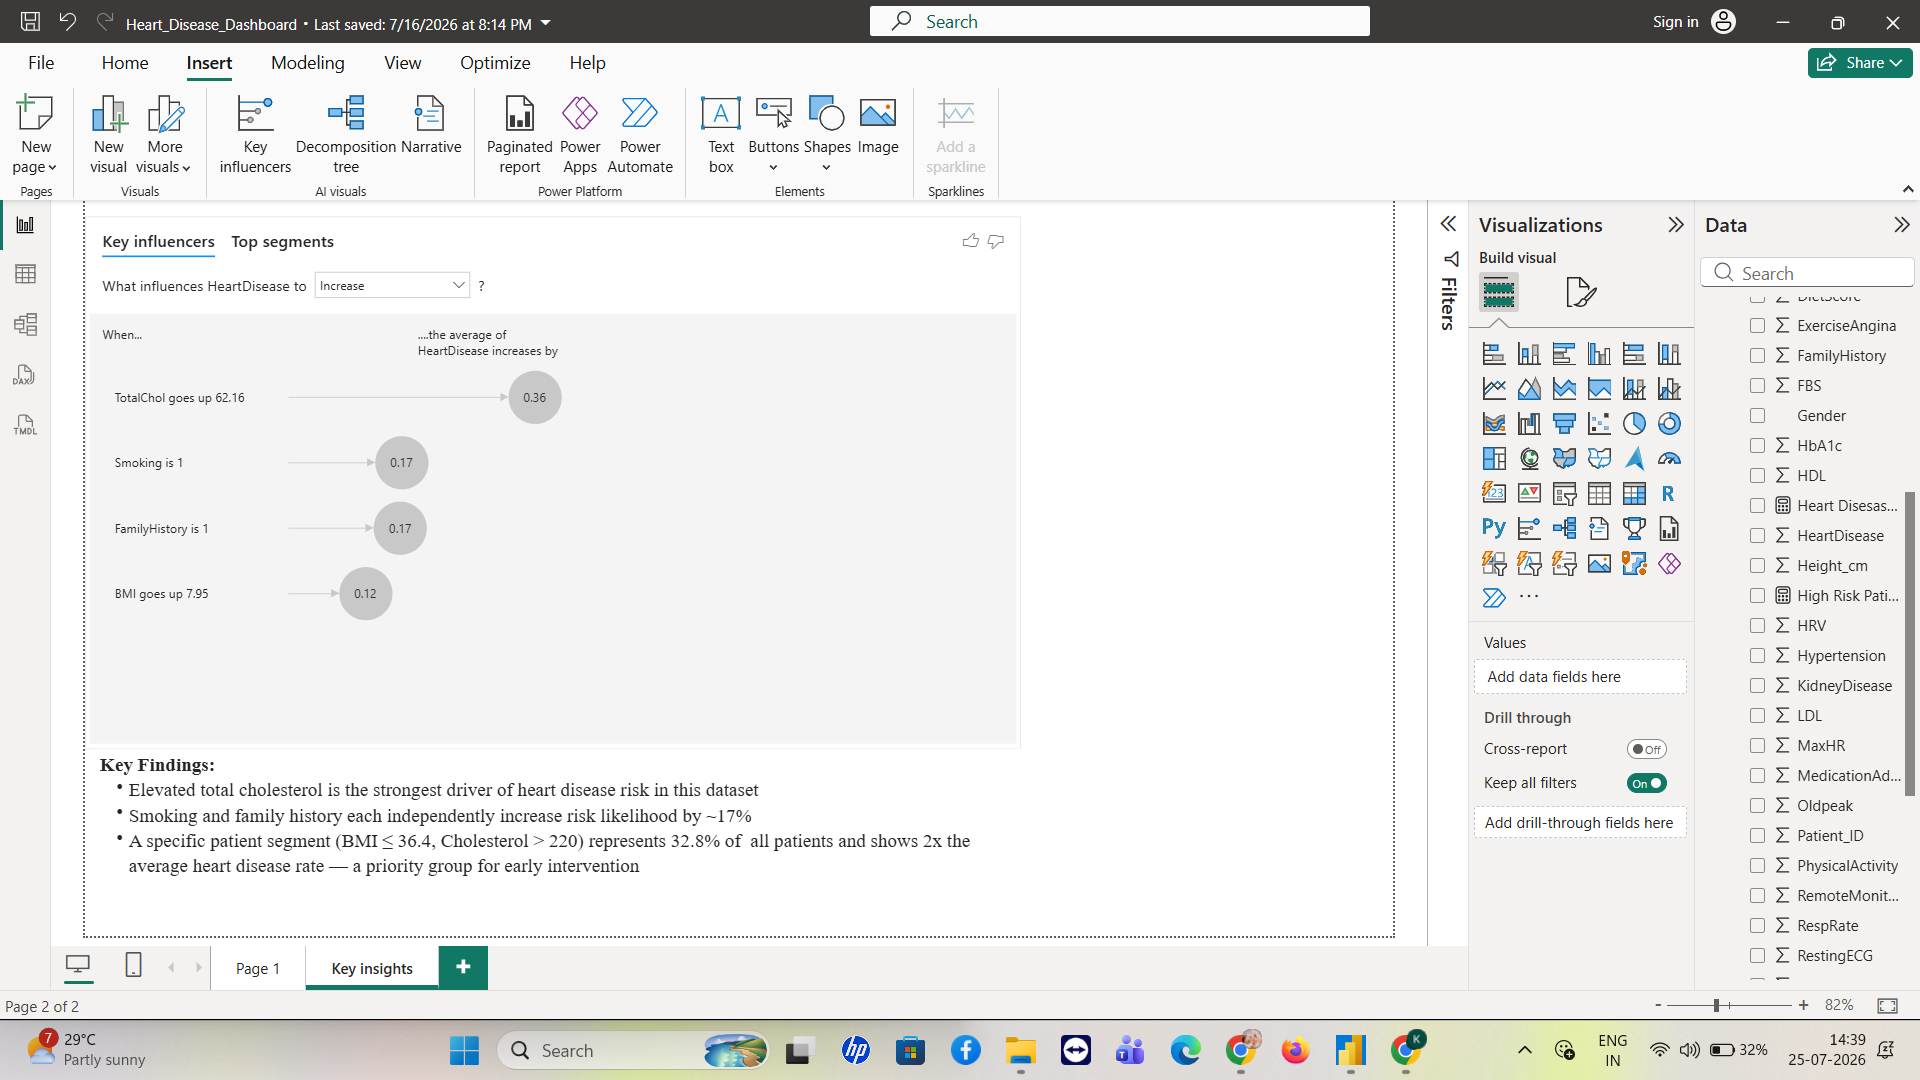

What the dashboard file says about the page in this screenshot:
{"tool":"powerbi","page":{"name":"Key insights","canvas":[1280,720],"ordinal":1},"visuals":[{"type":"keyDriversVisual","fields":{"Target":["heart_disease_DV.HeartDisease"],"ExplainBy":["heart_disease_DV.BMI","heart_disease_DV.Smoking","heart_disease_DV.StressLevel","heart_disease_DV.TotalChol","heart_disease_DV.Alcohol","heart_disease_DV.PhysicalActivity","heart_disease_DV.FamilyHistory"]},"box":[0,15.9,915.9,520.9],"z":0},{"type":"textbox","box":[10,537,916,183],"z":1}]}

Visuals, with their boxes on the page's 1280x720 design canvas (x1, y1, x2, y2). These are canvas units, not pixel positions in the 1920x1080 screenshot, which may show the page scaled, cropped or inside an application window:
keyDriversVisual - heart_disease_DV.HeartDisease x heart_disease_DV.BMI: [0,16,916,537]
textbox: [10,537,926,720]
